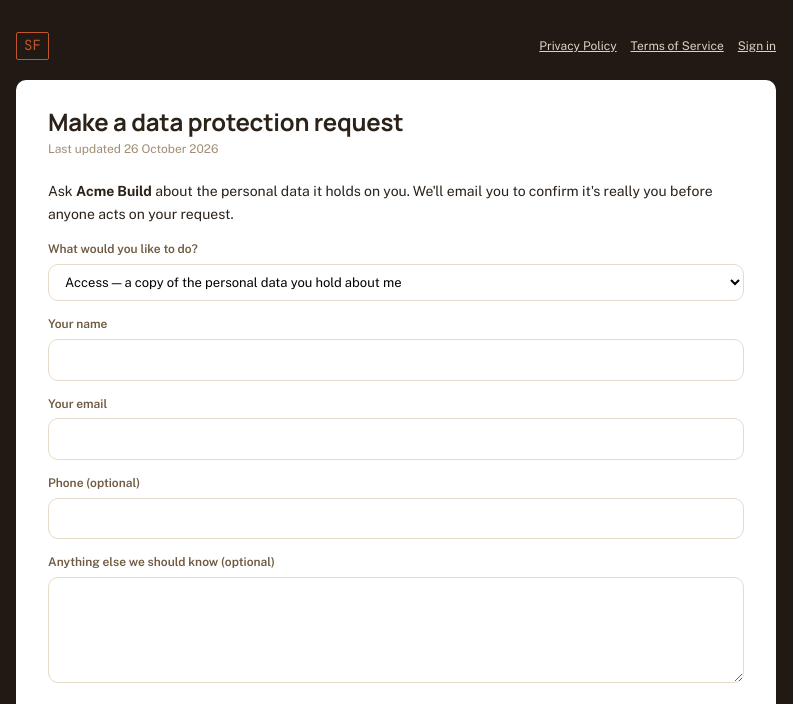
Test: PrivacyRequestPage › names the company and submits the request to the public endpoint
Check: the text "Acme Build" is shown, box 76,183 -> 152,199
In the field labelled "Your name": (396, 360) 48,339 -> 744,380, type "Jane Doe"
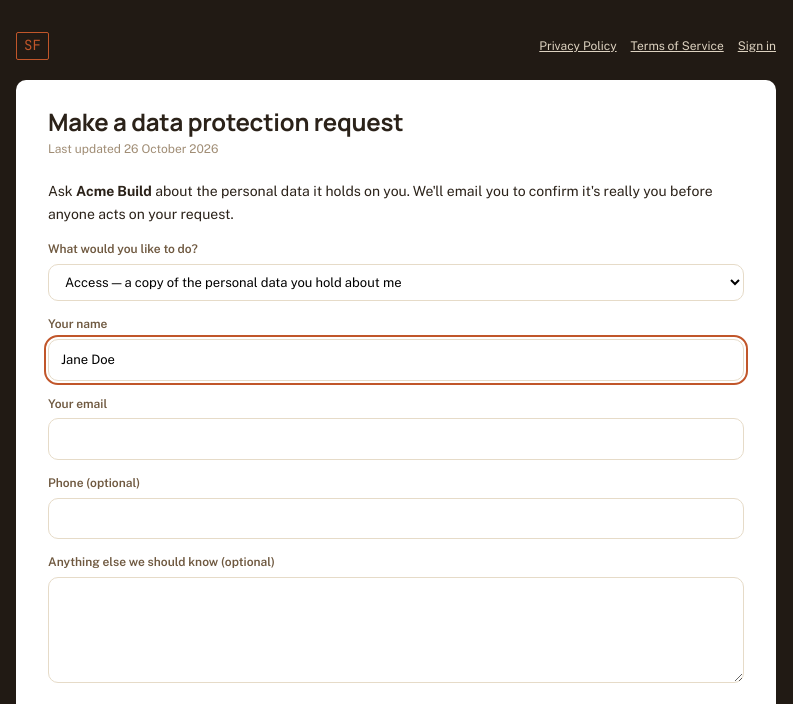
In the field labelled "Your email": (396, 439) 48,418 -> 744,460, type "jane@example.com"
(page scrolled)
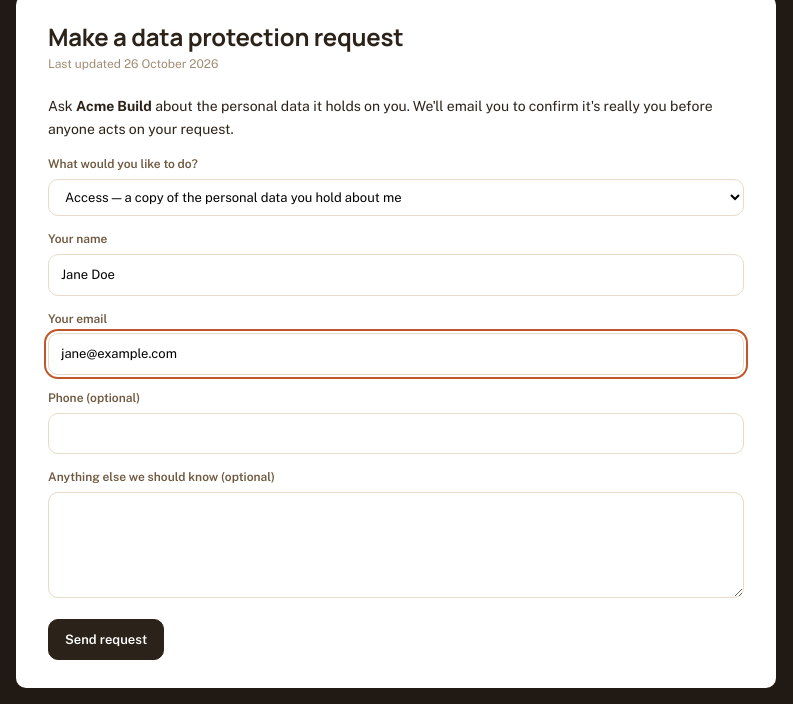
Click the button "Send request": (106, 639) 48,619 -> 164,660
(page scrolled)
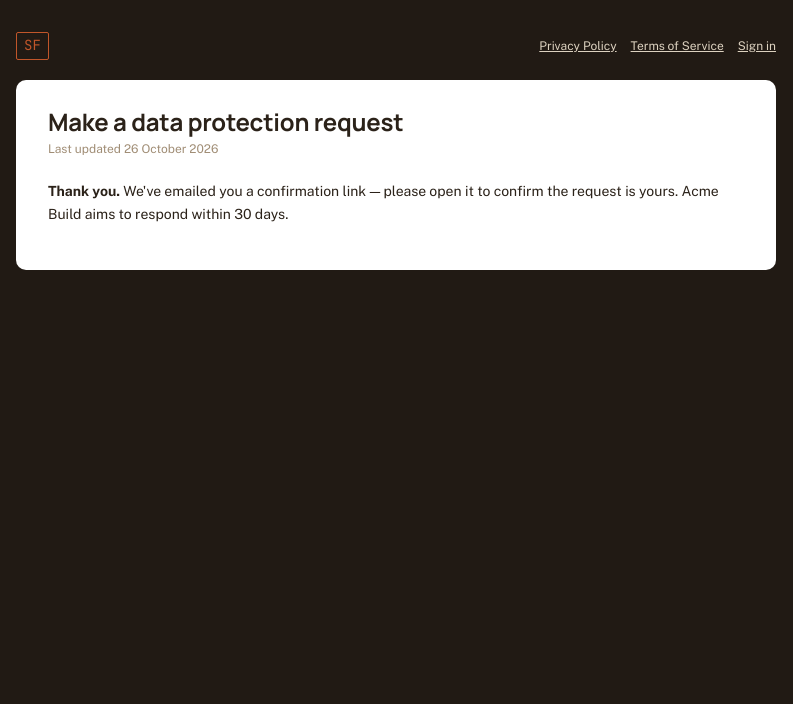
Check: the message shows "confirmation link", box 120,183 -> 681,199
